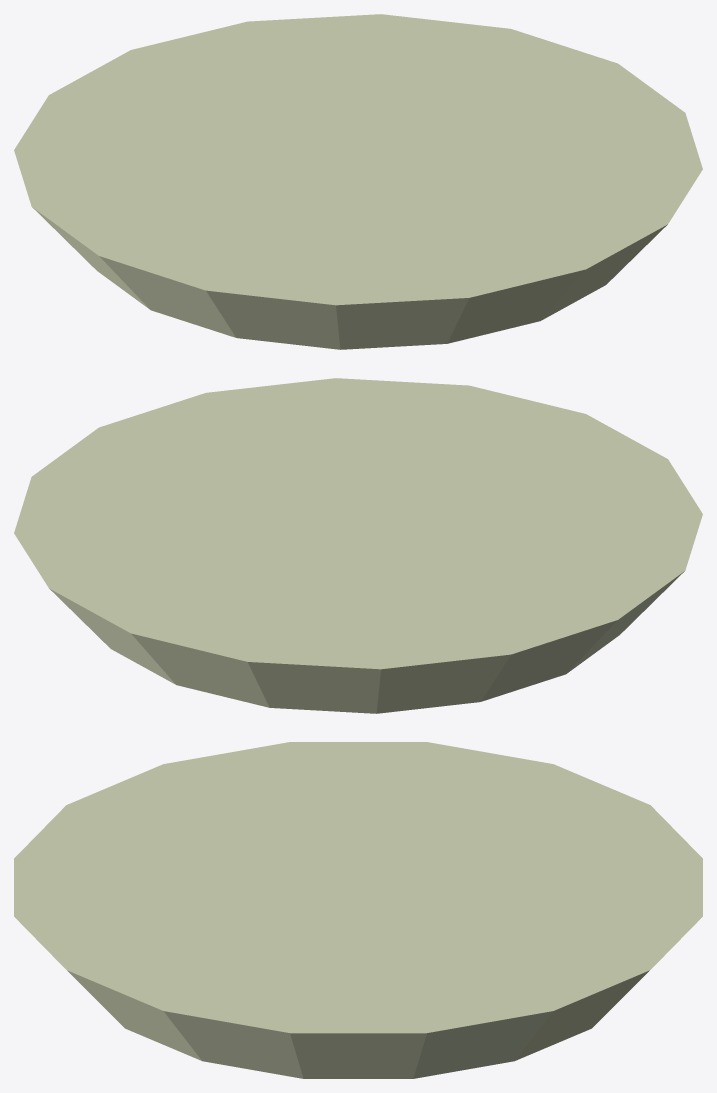
The model's file is tantares_heatshield_s1_1_collider.obj.
3 views of the same model, one above another, from view 1: azimuth 30°, elevation 25°; view 2: azimuth 150°, elevation 25°; view 3: azimuth 270°, elevation 25° (orthographic).
Visible parts, largest first — view 1: collider; view 2: collider; view 3: collider.
Boxes of the visible parts, bbox=[...] form: collider: bbox=[14, 14, 702, 349]; collider: bbox=[14, 378, 702, 713]; collider: bbox=[14, 742, 702, 1078].
Size of the model in its own units: 1.25 by 0.15 by 1.25.
